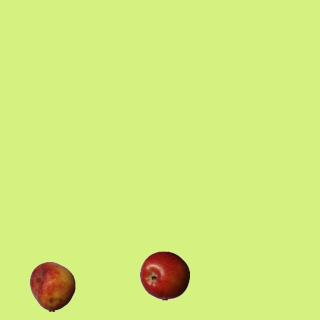Apple Braeburn: (139, 250, 189, 300)
Peach: (27, 261, 77, 311)
